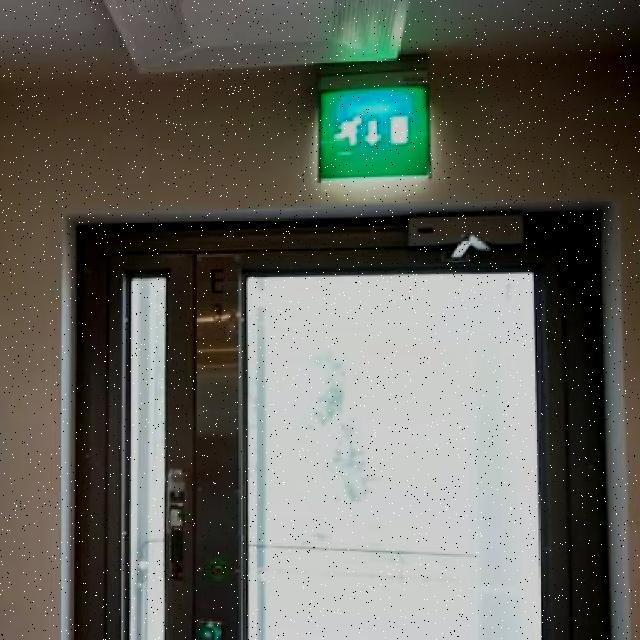emergency_exit: (316, 80, 432, 182)
